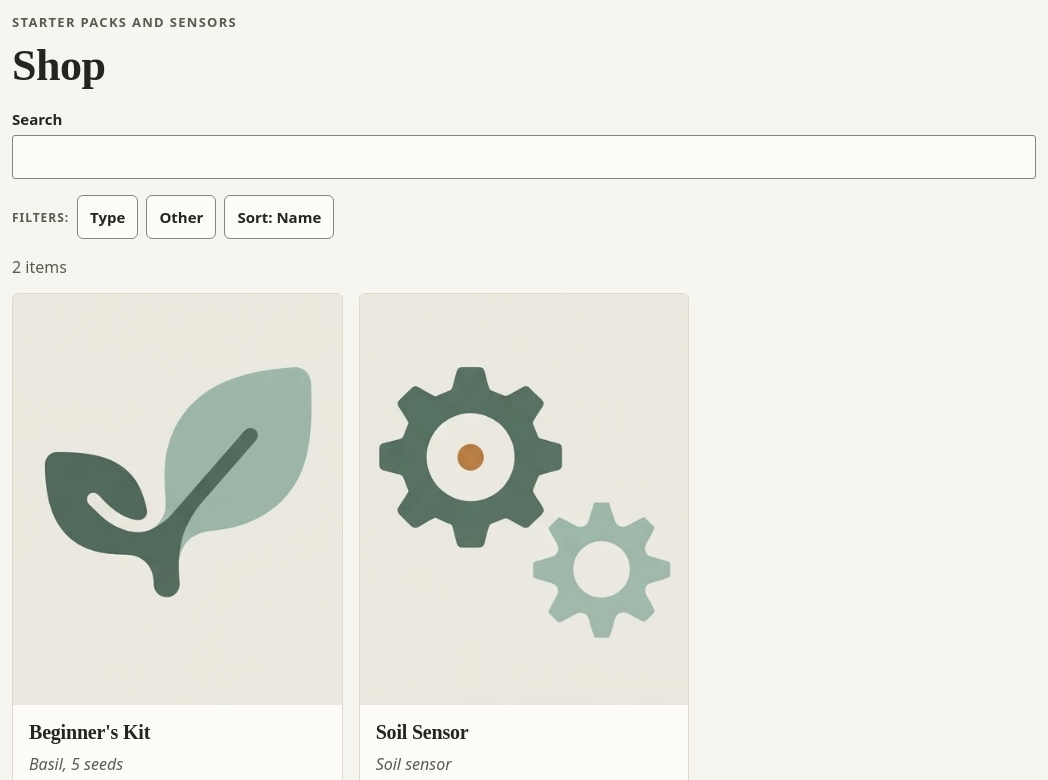
Test case: CatalogPage › filters by search text and sorts by price
The image size is (1048, 780).
Expected: the heading "Soil Sensor" is shown, x1=376 y1=721 x2=468 y2=743
Click the button "Sort: Name" at (279, 217), box x1=224 y1=195 x2=334 y2=239
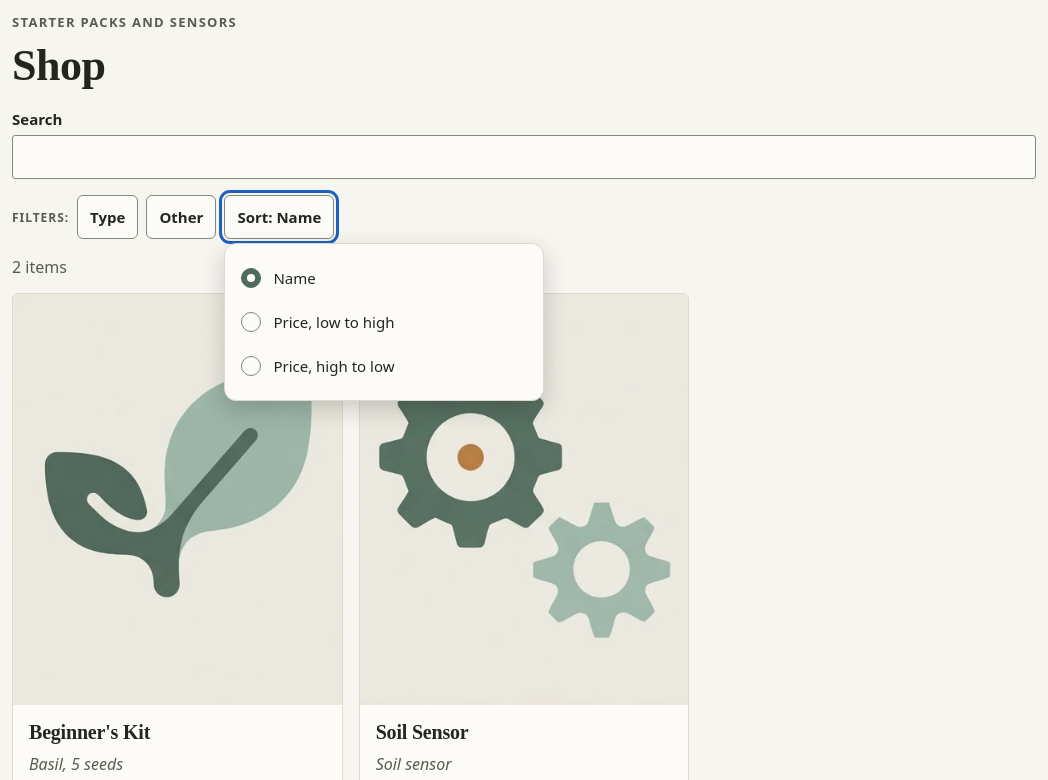
Click the radio button labelled "Price, low to high" at (318, 322), box x1=241 y1=312 x2=394 y2=332
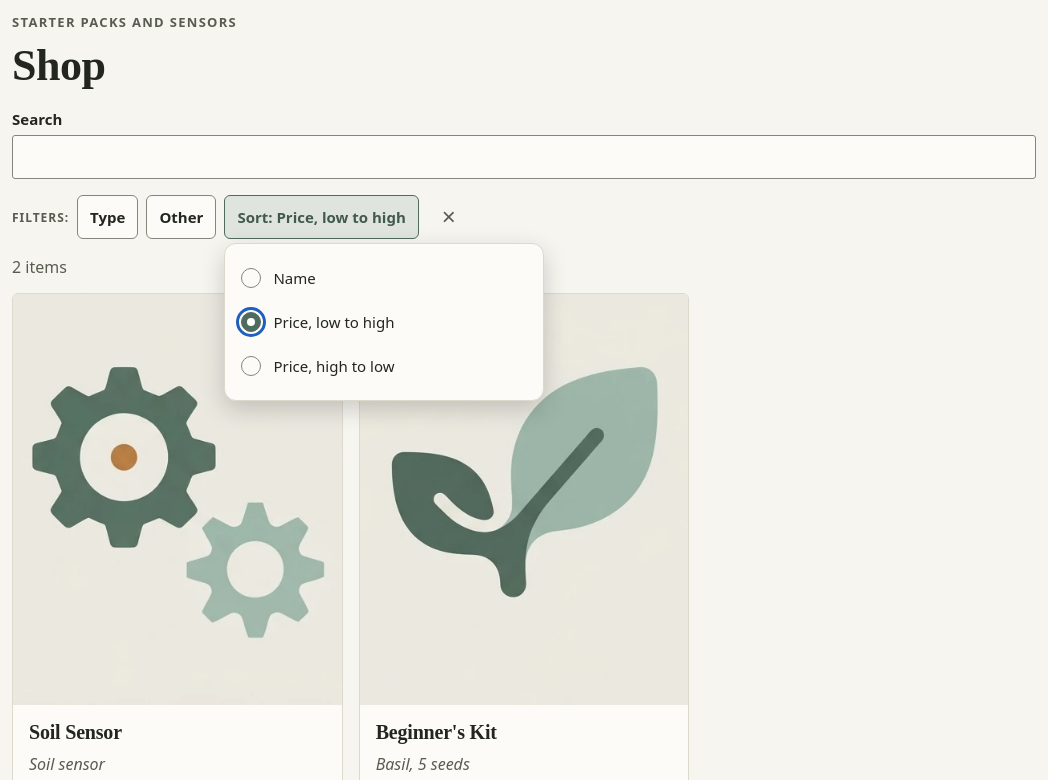
Result: the headings read "Soil Sensor", "Beginner's Kit", in this order at x1=29 y1=721 x2=122 y2=743; x1=376 y1=721 x2=497 y2=743
Type "basil" into the search field labelled "Search" at (524, 157), box x1=12 y1=135 x2=1036 y2=179
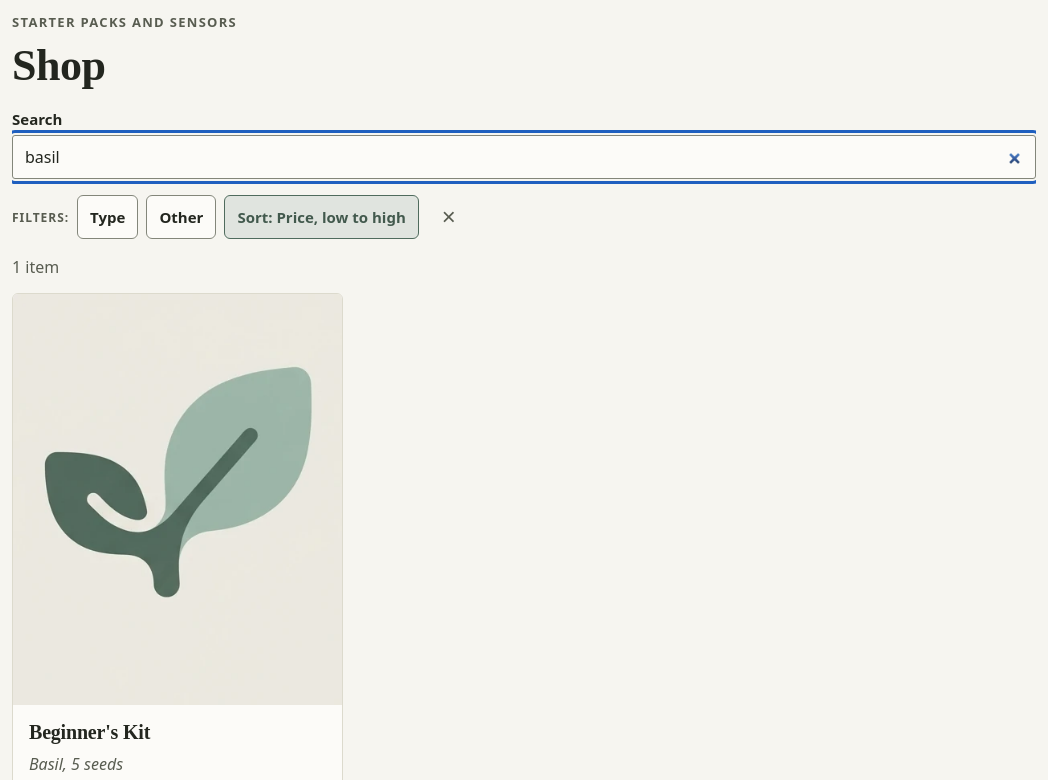
Result: the link "Soil Sensor" is gone
Result: the text "1 item" is shown at x1=12 y1=256 x2=59 y2=278
